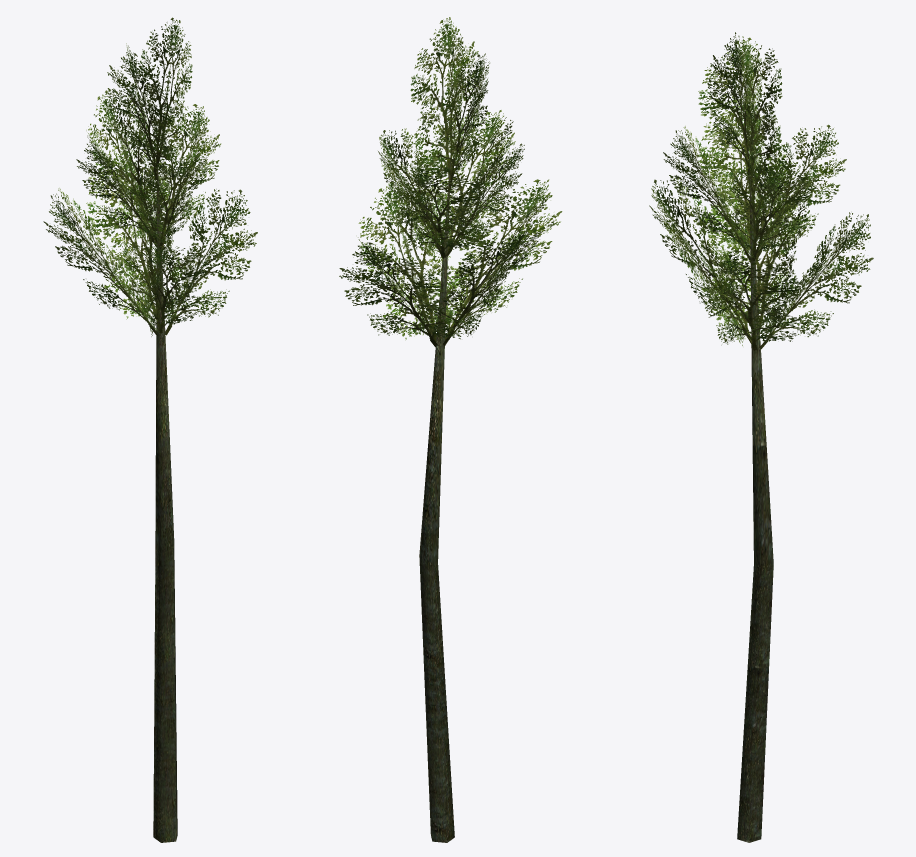
3 renders of one model, left to right at view 1: azimuth 30°, elevation 25°; view 2: azimuth 150°, elevation 25°; view 3: azimuth 270°, elevation 25°, orthographic. The views are drawn at different scales.
Parts seen in each view (by area): view 1: _TT05A; view 2: _TT05A; view 3: _TT05A.
Part boxes in pixels (x1,y1,x2,y2): _TT05A: (43,17,257,842); _TT05A: (339,17,562,842); _TT05A: (649,32,873,842).
Size of the model in its own units: 3.29 by 12.88 by 4.
2 materials, 2 textured.
